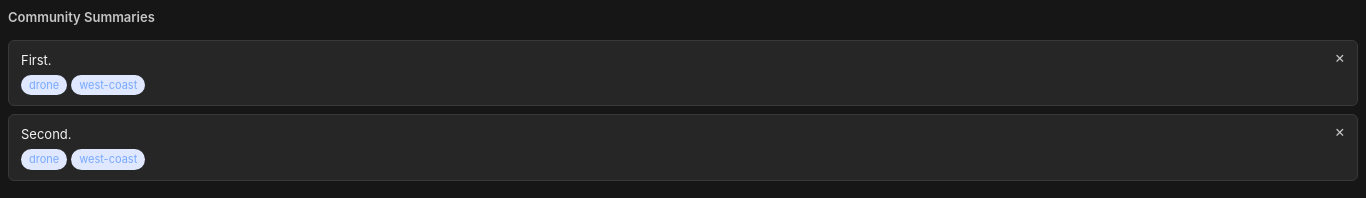
Test: CommunitySummaryPanel — card dismissal › should remove a card when its dismiss button is clicked
Click the 1st button "×" at (1340, 56), box [1330,46,1349,66]
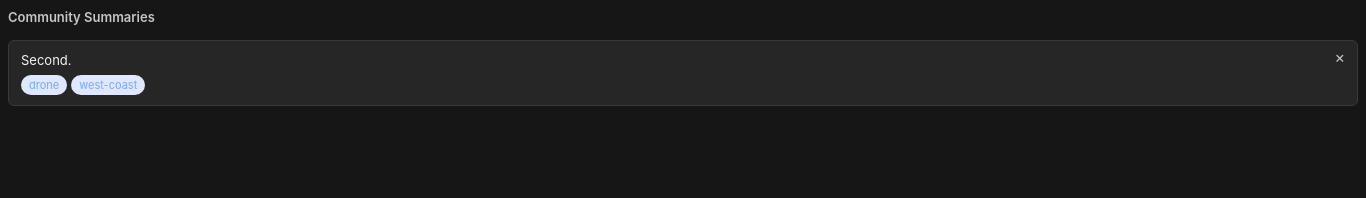
Expected: the text "Second." is shown, [21,52,72,68]
Now the button "First." is gone
